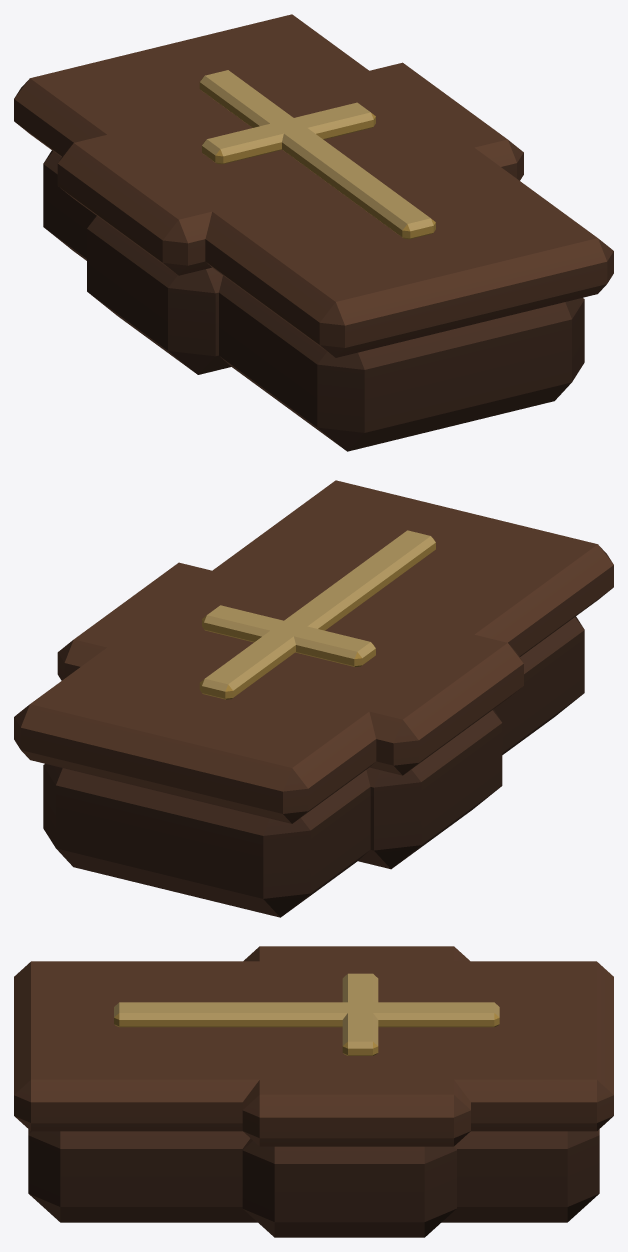
Rendered from coffin.glb.
3 renders of one model, top to bottom at view 1: azimuth 30°, elevation 25°; view 2: azimuth 150°, elevation 25°; view 3: azimuth 270°, elevation 25°, orthographic. The views are drawn at different scales.
Parts seen in each view (by area): view 1: mesh_coffin; view 2: mesh_coffin; view 3: mesh_coffin.
Boxes of the visible parts, x1,y1,x2,y2 form: mesh_coffin: [14, 14, 613, 451]; mesh_coffin: [14, 480, 613, 917]; mesh_coffin: [14, 946, 613, 1237].
Size of the model in its own units: 0.54 by 0.26 by 0.84.
